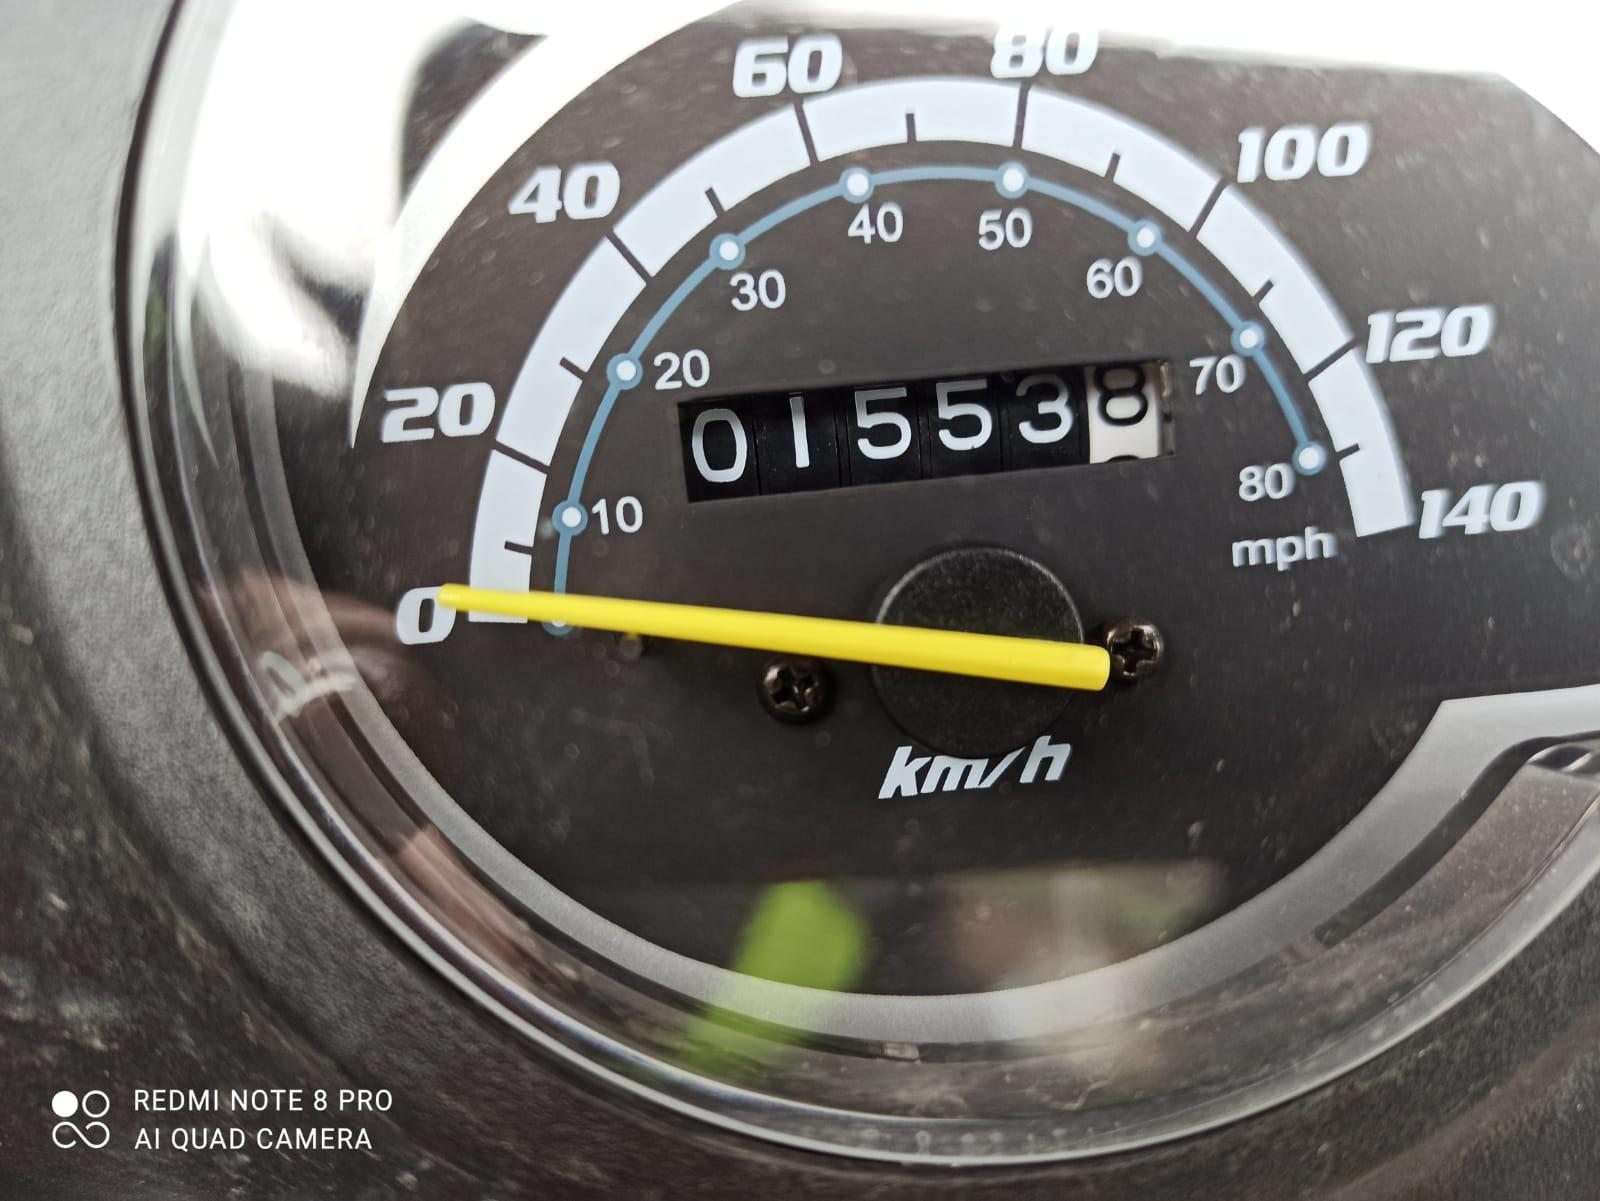0: (681, 401, 751, 493), (681, 341, 710, 389)
1: (779, 378, 824, 489)
3: (1012, 365, 1079, 466)
5: (850, 373, 920, 474), (932, 365, 998, 462)
8: (1090, 353, 1152, 444)
odometer: (673, 349, 1181, 512)
